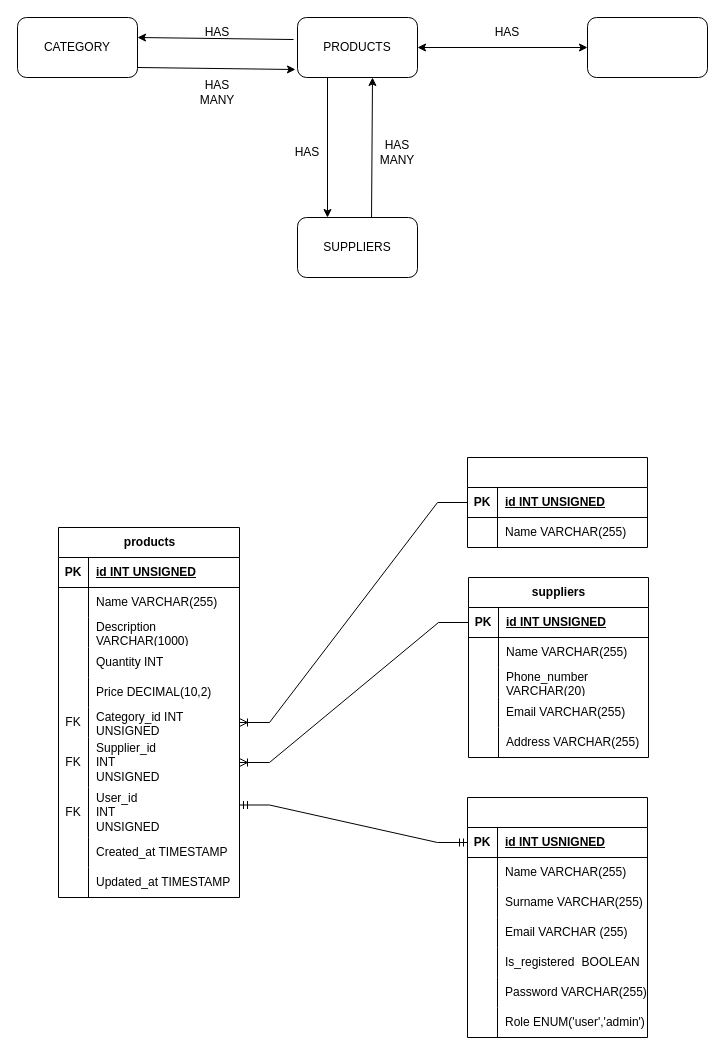
Some shapes in this 725 by 1055 pixel diagram are drawn without their labels. Here are the shapes that lost their labels. From the top down, the box of each, then its label:
(586, 16, 708, 78): USER
(466, 456, 648, 548): categories
(466, 796, 648, 1038): users
